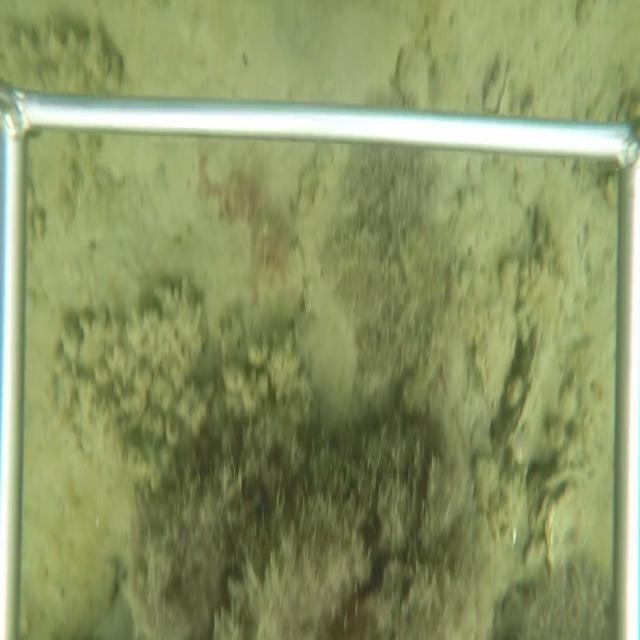Oyster-Closed: (497, 320, 548, 459)
Oyster-Indeterminate: (395, 46, 432, 111)
